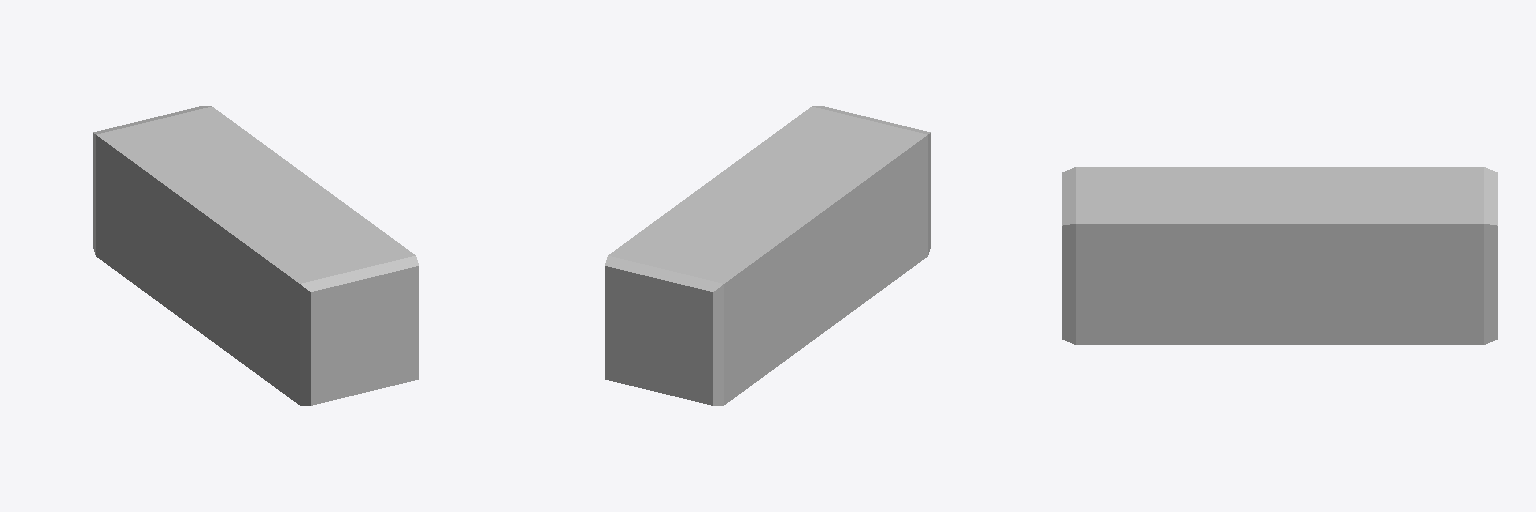
File: senila1cover.obj
3 renders of one model, left to right at view 1: azimuth 30°, elevation 25°; view 2: azimuth 150°, elevation 25°; view 3: azimuth 270°, elevation 25°, orthographic.
Visible parts, largest first — view 1: Cube.002; view 2: Cube.002; view 3: Cube.002.
Boxes of the visible parts, x1=… form: Cube.002: x1=93, y1=106, x2=418, y2=405; Cube.002: x1=605, y1=106, x2=930, y2=405; Cube.002: x1=1062, y1=167, x2=1497, y2=344.
Size of the model in its own units: 0.8 by 0.8 by 2.6.